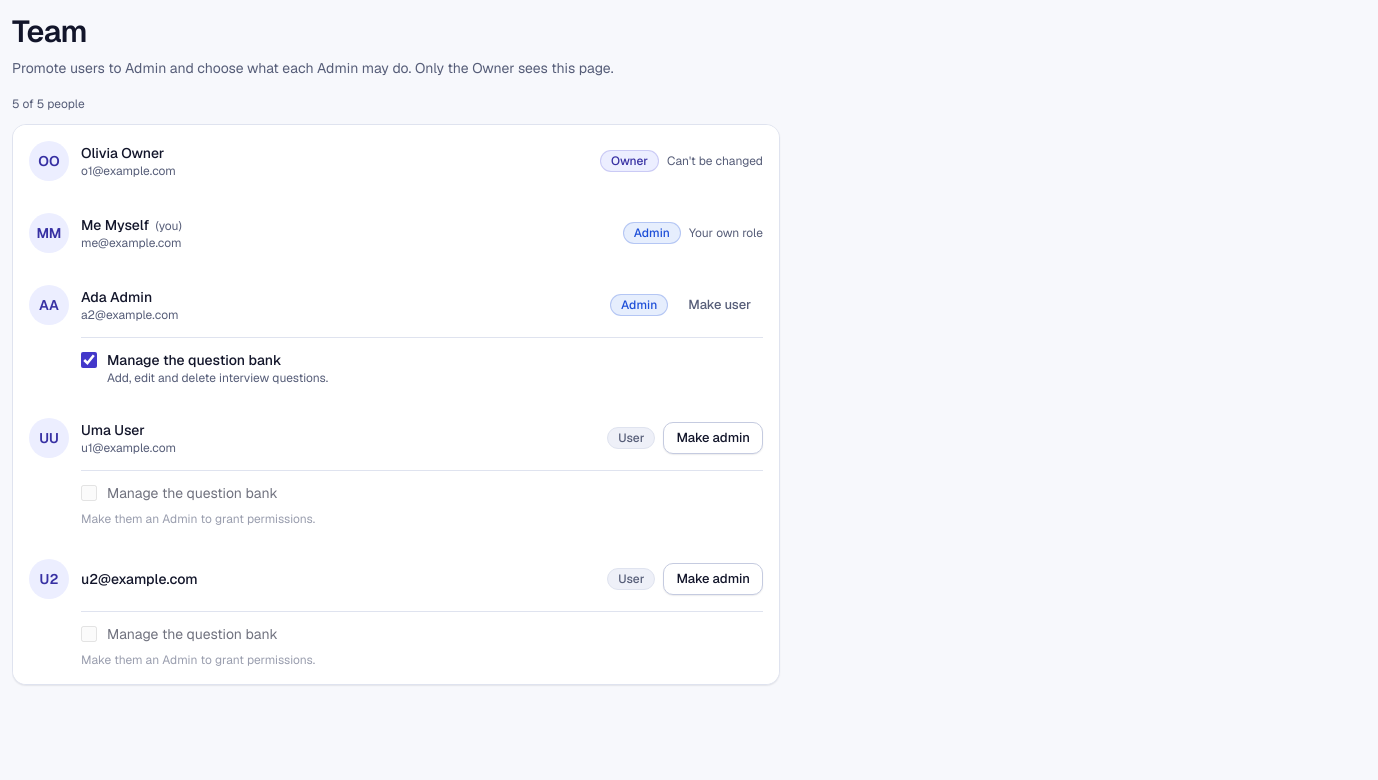
TeamManager › rolls a promotion back when the server refuses
expect the text "Uma User" is shown: met, box [81,421,145,439]
Click the button with aria-label "Make Uma User an Admin".
click(713, 438)  # box [663,422,763,454]
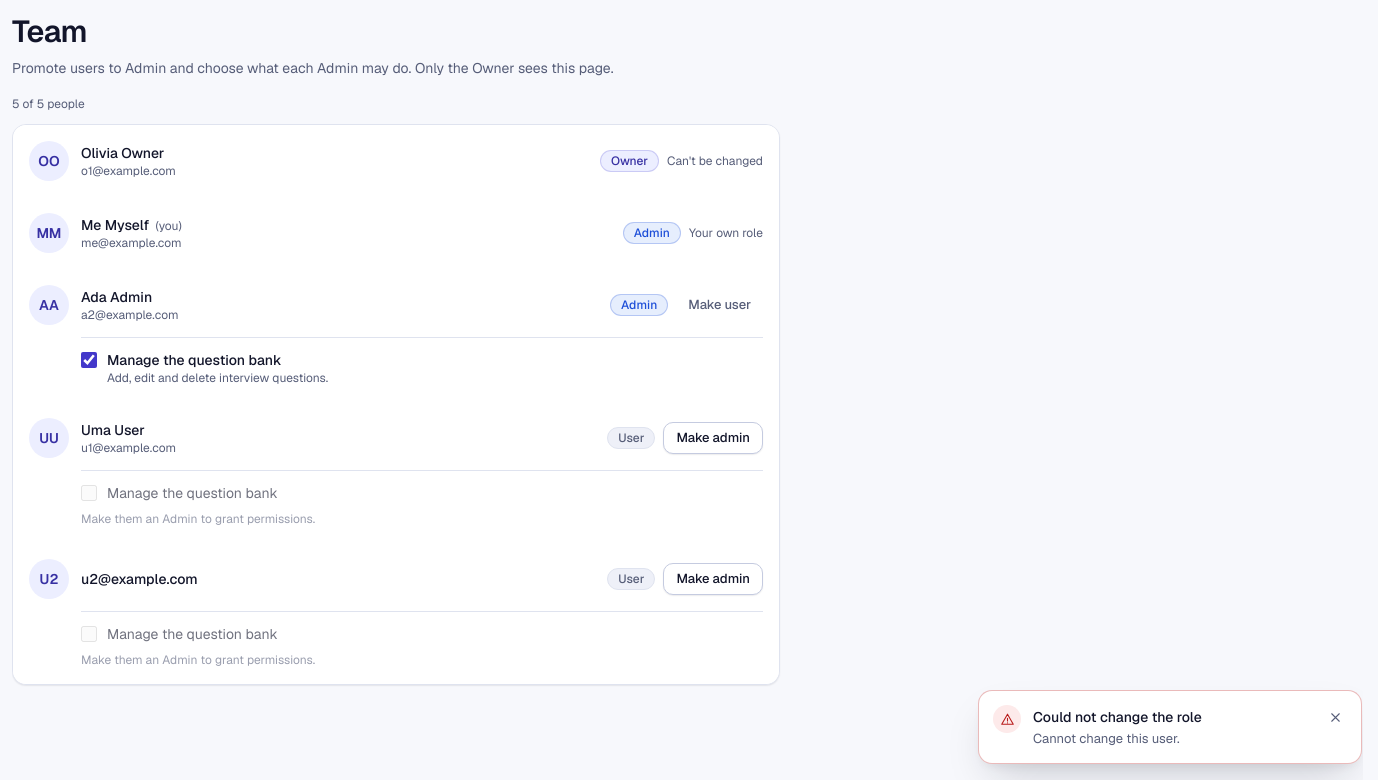
expect the checkbox labelled "Manage the question bank" below "UU" is disabled: met, box [81,485,97,501]
expect the text "Cannot change this user." is shown: met, box [1033,730,1180,747]
